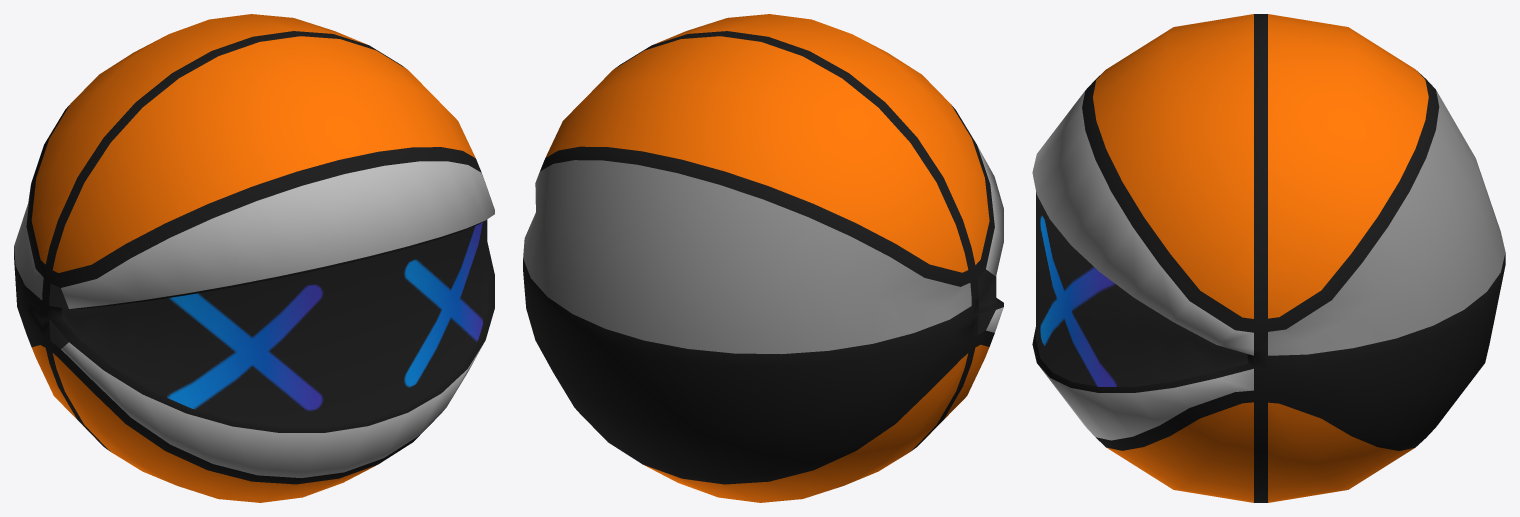
File: confused.glb
3 views of the same model, side by side, from view 1: azimuth 30°, elevation 25°; view 2: azimuth 150°, elevation 25°; view 3: azimuth 270°, elevation 25° (orthographic).
Visible parts, largest first — view 1: BasketballBall_Confused; view 2: BasketballBall_Confused; view 3: BasketballBall_Confused.
Part boxes in pixels (x1=…): BasketballBall_Confused: x1=14, y1=14, x2=494, y2=502; BasketballBall_Confused: x1=523, y1=14, x2=1003, y2=502; BasketballBall_Confused: x1=1032, y1=14, x2=1505, y2=502.
Size of what is drawn, in the model's own units: 0.7506 by 0.7456 by 0.7212.
2 materials, 2 textured.
